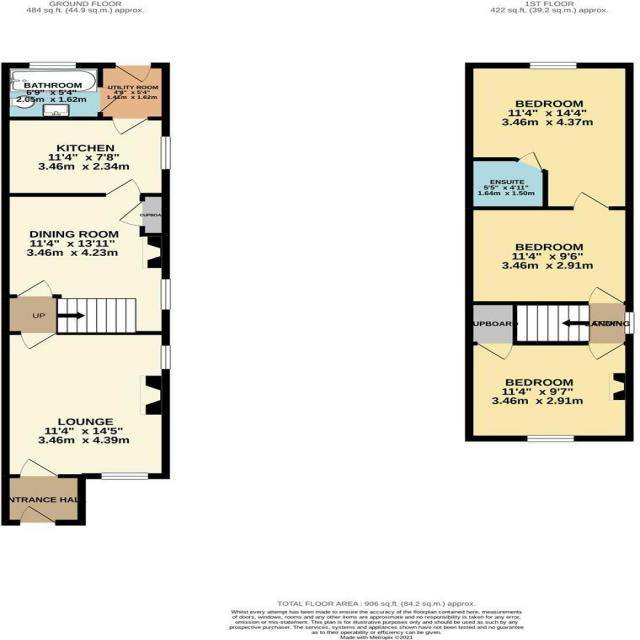DOOR: (474, 340, 517, 364), (570, 189, 611, 213), (585, 283, 626, 307), (585, 339, 626, 362), (114, 61, 153, 84), (513, 149, 547, 175), (104, 177, 146, 198), (116, 200, 147, 228), (15, 278, 56, 299), (18, 458, 59, 479), (18, 505, 58, 526), (111, 115, 149, 137), (96, 86, 126, 113), (19, 330, 57, 351)
ROOM: (0, 175, 171, 353), (0, 330, 172, 480), (464, 61, 635, 210), (463, 189, 635, 305), (463, 340, 635, 442), (0, 115, 172, 198)
WINDOW: (527, 60, 579, 71), (524, 433, 578, 443), (28, 61, 78, 71), (159, 135, 172, 171), (159, 278, 172, 311), (100, 472, 150, 480), (159, 345, 172, 370)
